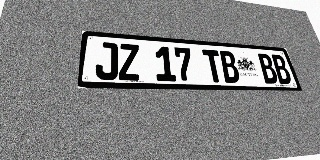1: (154, 46, 176, 81)
7: (173, 47, 195, 82)
B: (218, 50, 241, 83), (256, 53, 279, 84), (270, 54, 293, 84)
J: (95, 42, 118, 80)
T: (202, 49, 225, 83)
Z: (119, 43, 140, 81)
